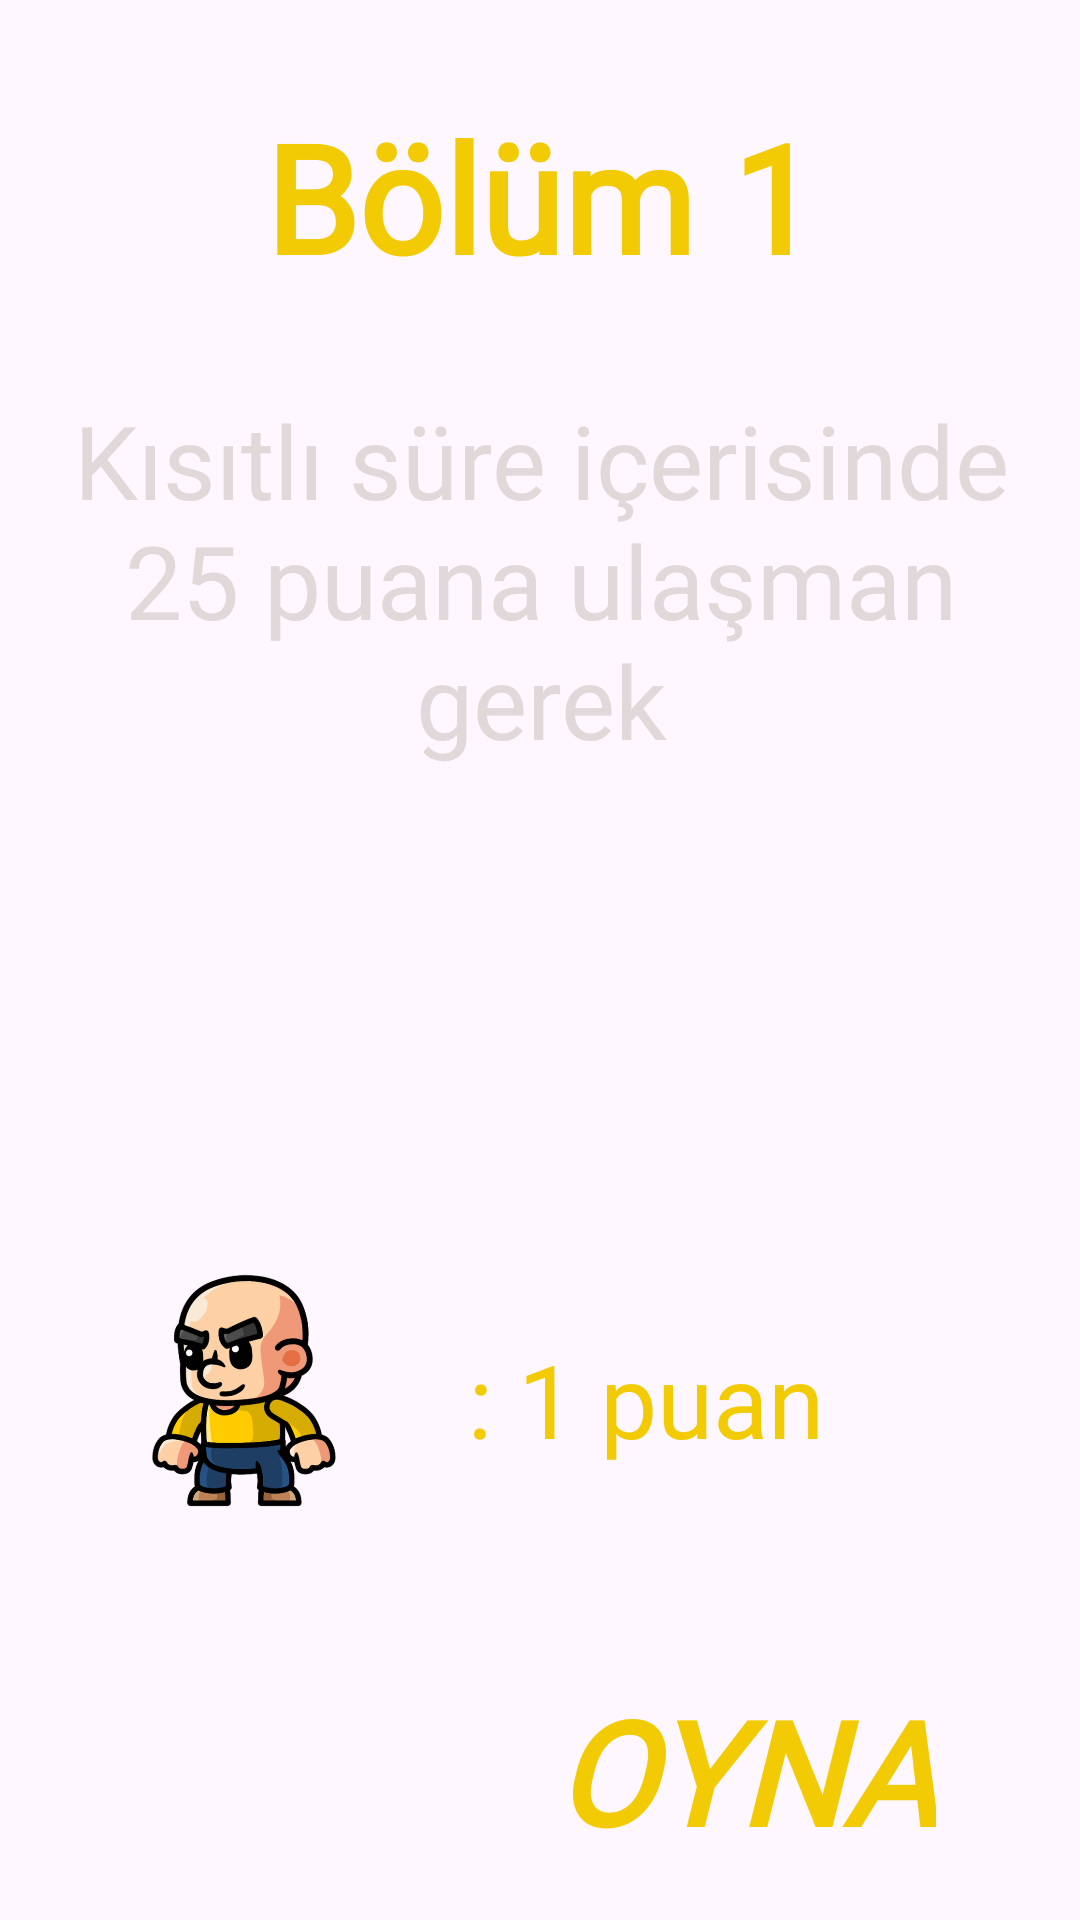

Named icons in this screenshot (1080 × 1920) and their centers, (x=x, y=y):
kid: (x=244, y=1390)
